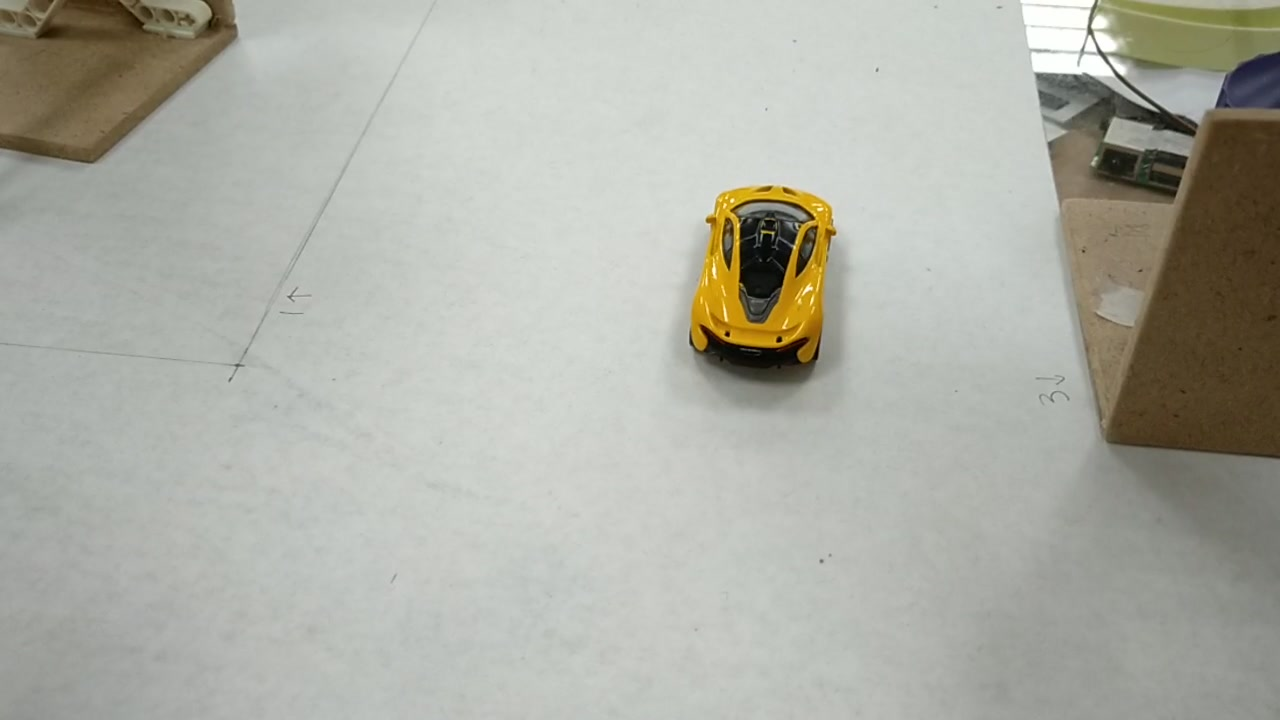car: (694, 189, 840, 359)
